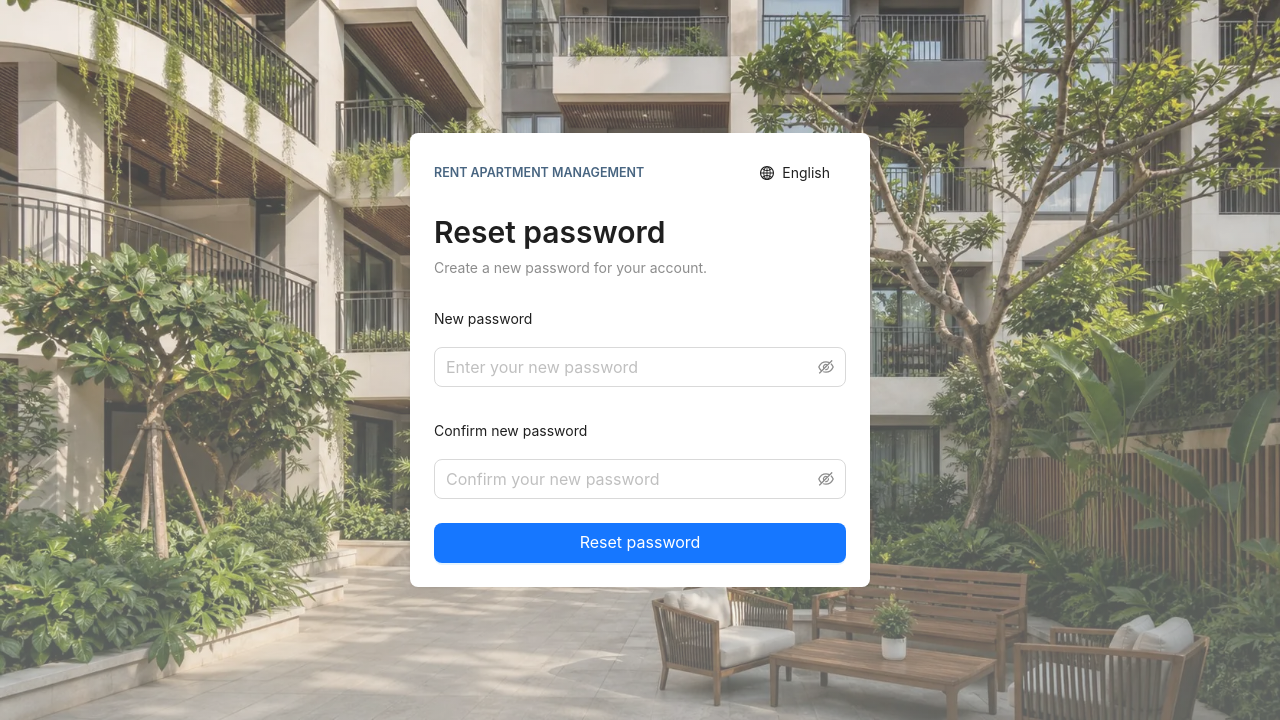
Test: ResetPasswordPage › displays an invalid token error returned by the API
Type "secure-password-123" into the password field labelled "New password".
click(630, 367); type("secure-password-123")  # box [446, 355, 814, 379]
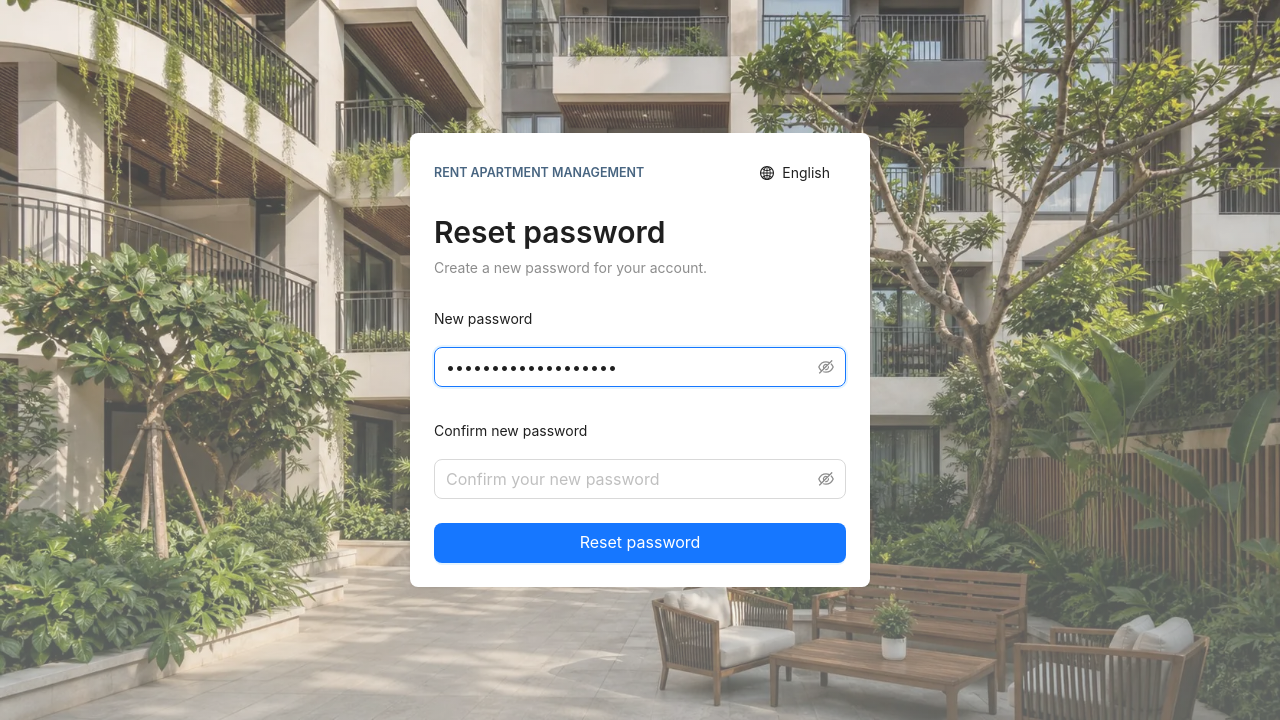
Type "secure-password-123" into the password field labelled "Confirm new password".
click(630, 479); type("secure-password-123")  # box [446, 467, 814, 491]
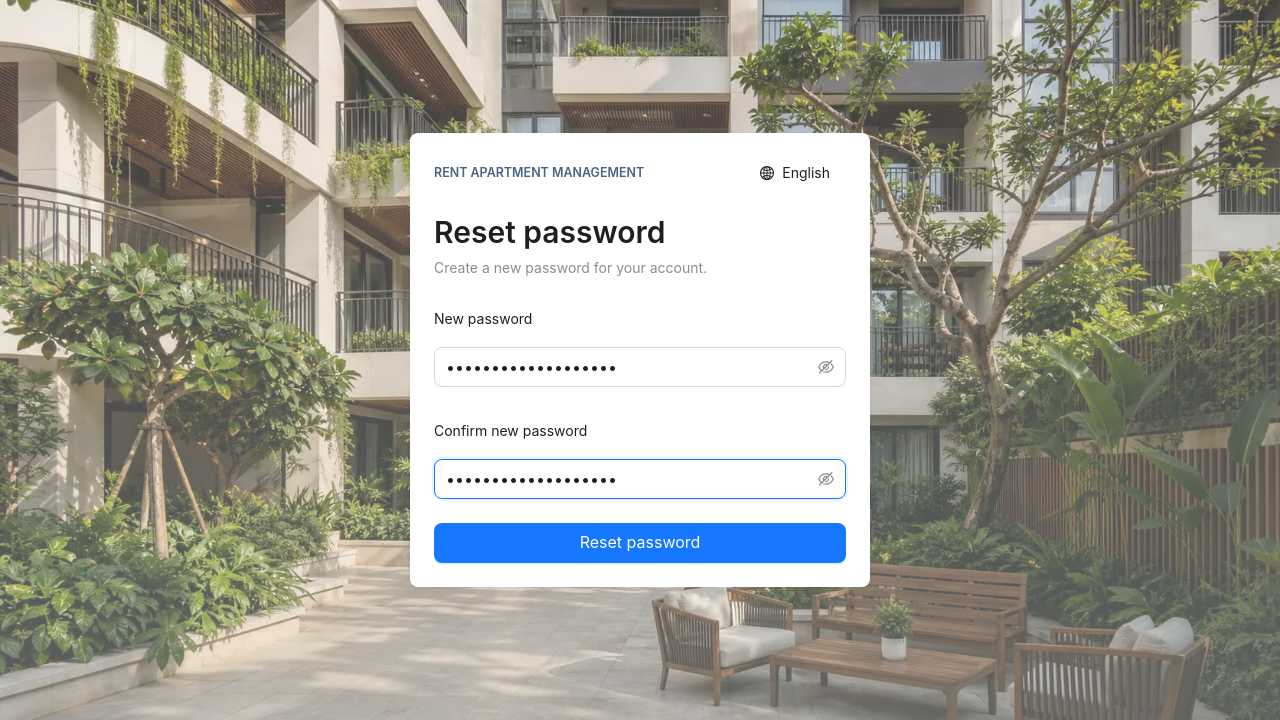
Click the button "Reset password".
click(640, 543)  # box [434, 523, 846, 563]
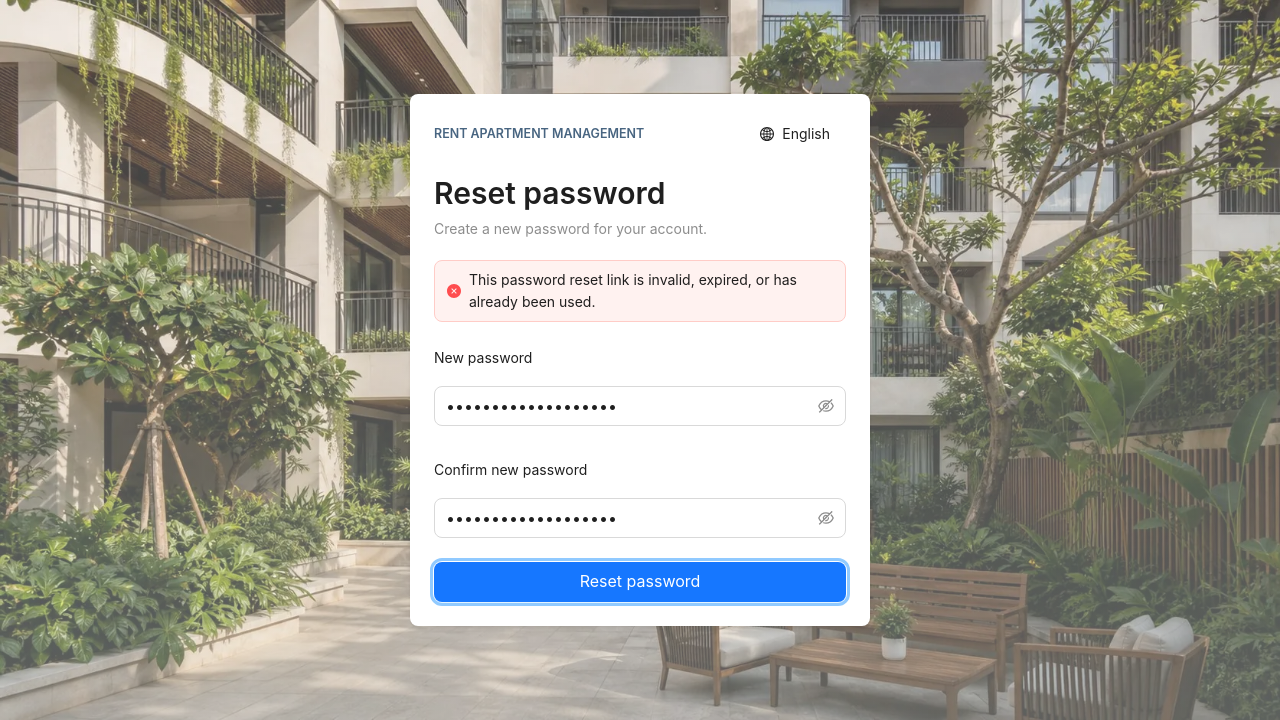
Now the message reads "This password reset link is invalid, expired, or has already been used.", box [469, 271, 797, 310]
